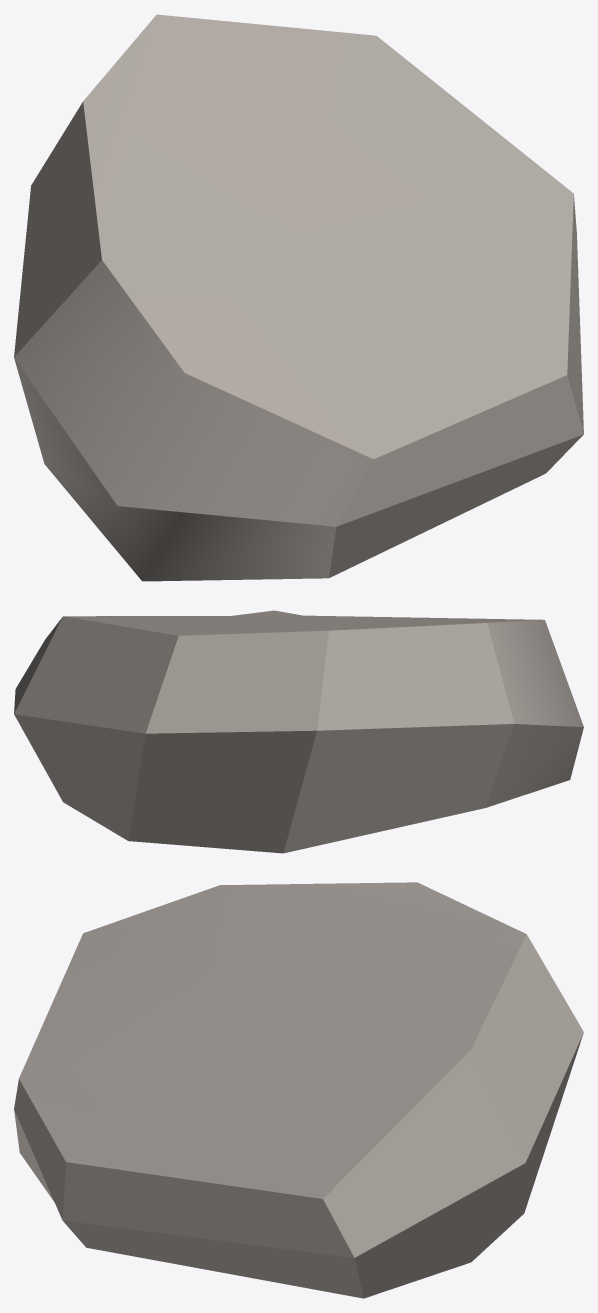
Rendered from Rock_L_5.fbx.
3 renders of one model, top to bottom at view 1: azimuth 30°, elevation 25°; view 2: azimuth 150°, elevation 25°; view 3: azimuth 270°, elevation 25°, orthographic. The views are drawn at different scales.
Parts seen in each view (by area): view 1: Rock_5; view 2: Rock_5; view 3: Rock_5.
Boxes of the visible parts, x1,y1,x2,y2 form: Rock_5: [14, 14, 583, 581]; Rock_5: [14, 610, 583, 853]; Rock_5: [14, 882, 583, 1298].
Size of the model in its own units: 0.0418 by 0.0205 by 0.0392.
